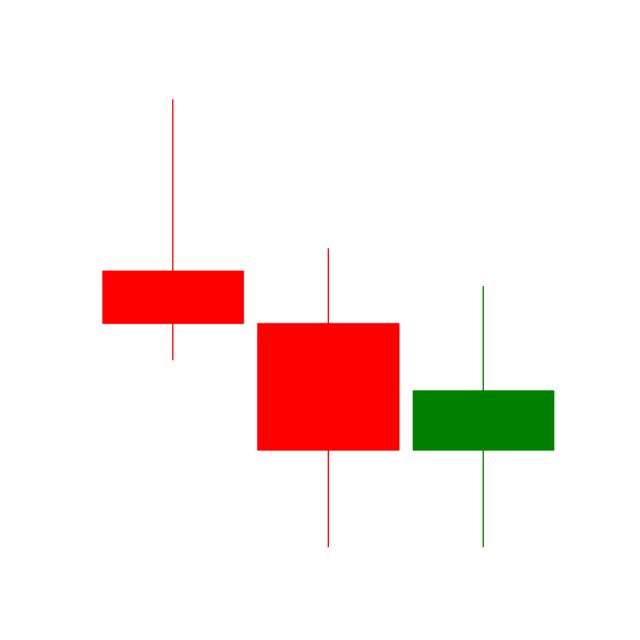Dragonfly Doji: (92, 94, 250, 365)
spinning top: (252, 244, 400, 550), (410, 286, 561, 550)
